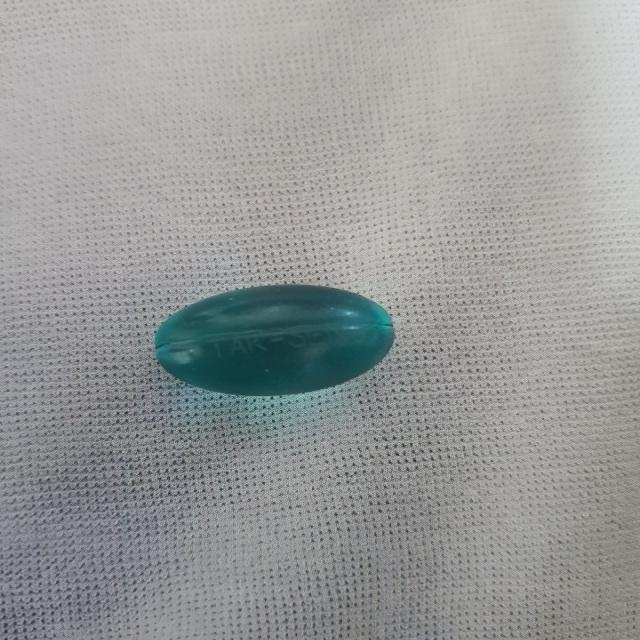pill: (152, 250, 400, 411)
